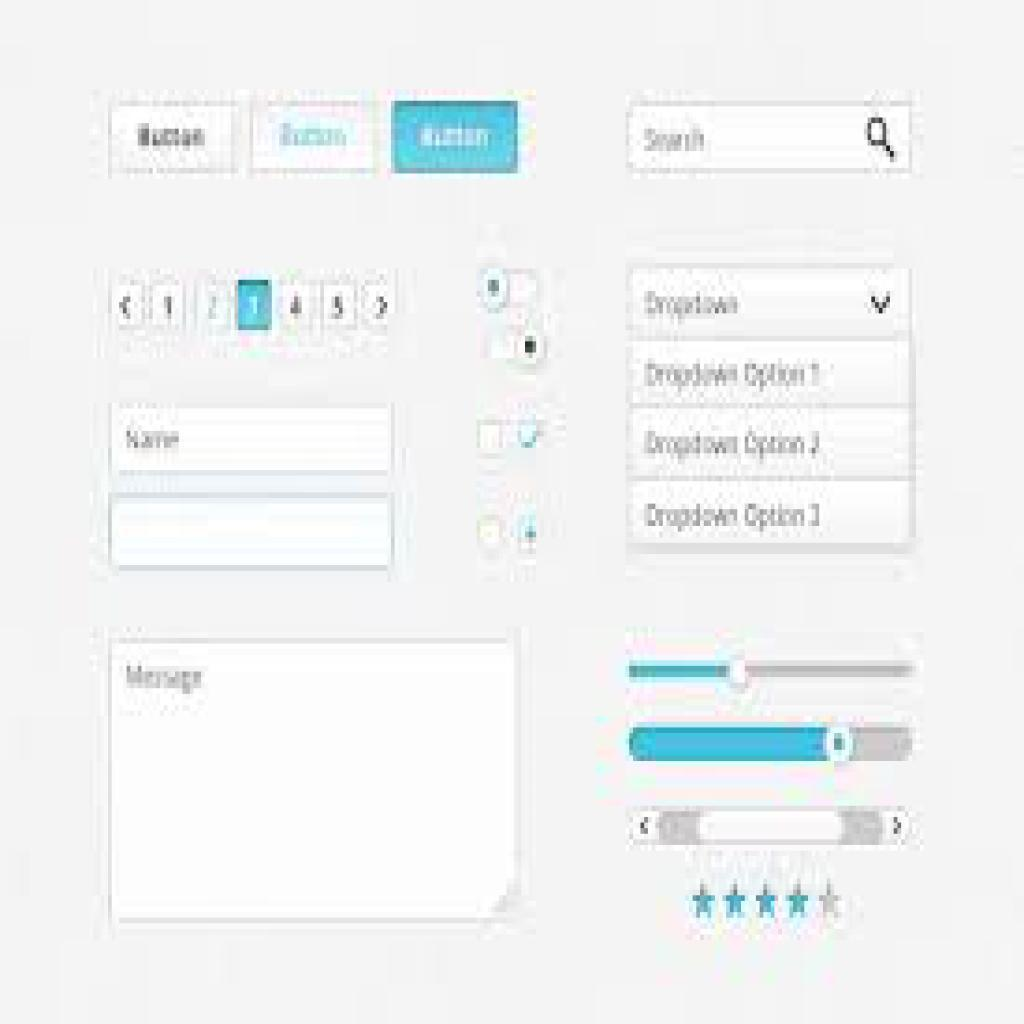button: (111, 104, 235, 174), (393, 103, 516, 173), (249, 105, 373, 171)
checkbox: (475, 423, 502, 456)
dropdown: (630, 269, 914, 343)
input: (111, 492, 393, 566), (111, 400, 392, 473)
radio: (629, 103, 912, 174), (473, 516, 506, 554)
slider: (620, 800, 923, 853), (625, 649, 922, 701), (629, 718, 924, 770)
switch: (483, 323, 549, 372), (477, 263, 545, 310)
